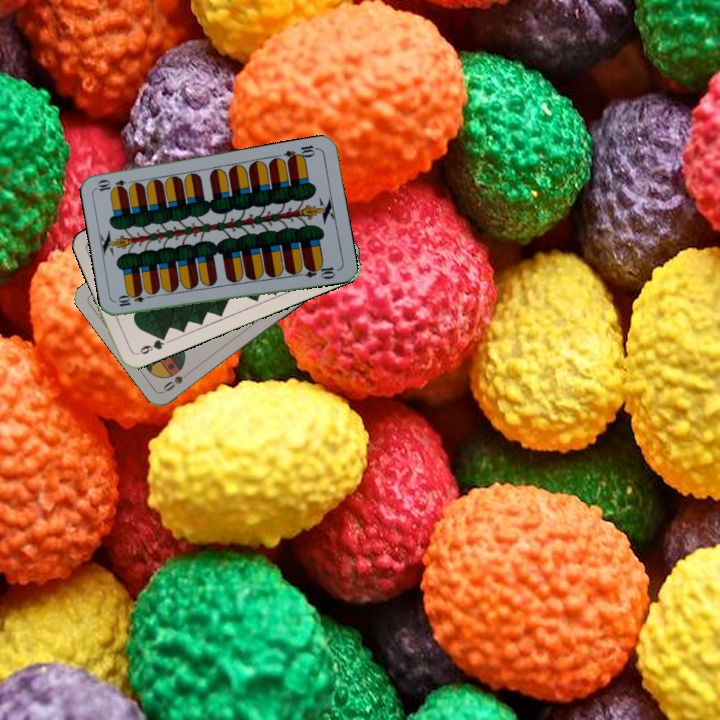E10: (280, 141, 321, 164), (114, 290, 154, 309)
G9: (132, 331, 169, 358)
SO: (159, 365, 195, 394)
